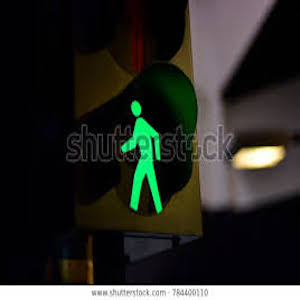green: (110, 93, 174, 213)
